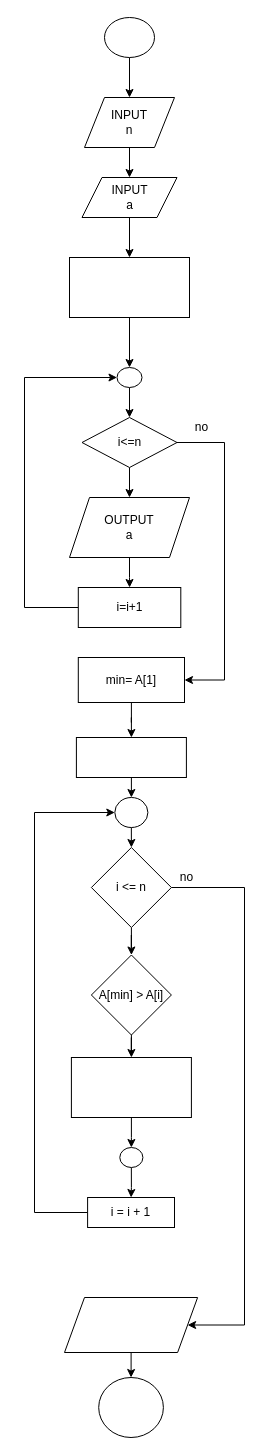
Some shapes in this 270 by 1455 pixel diagram are drawn without their labels. The shapes that lost their labels are listed below. From the top down, each one's box as (x1, y1, x2, y2) in pixels, then its label:
(68, 256, 190, 318): min=a i=2
(75, 736, 186, 778): i=2
(70, 1056, 191, 1118): min = A[i]
(64, 1296, 198, 1352): Output, min, A[min]
